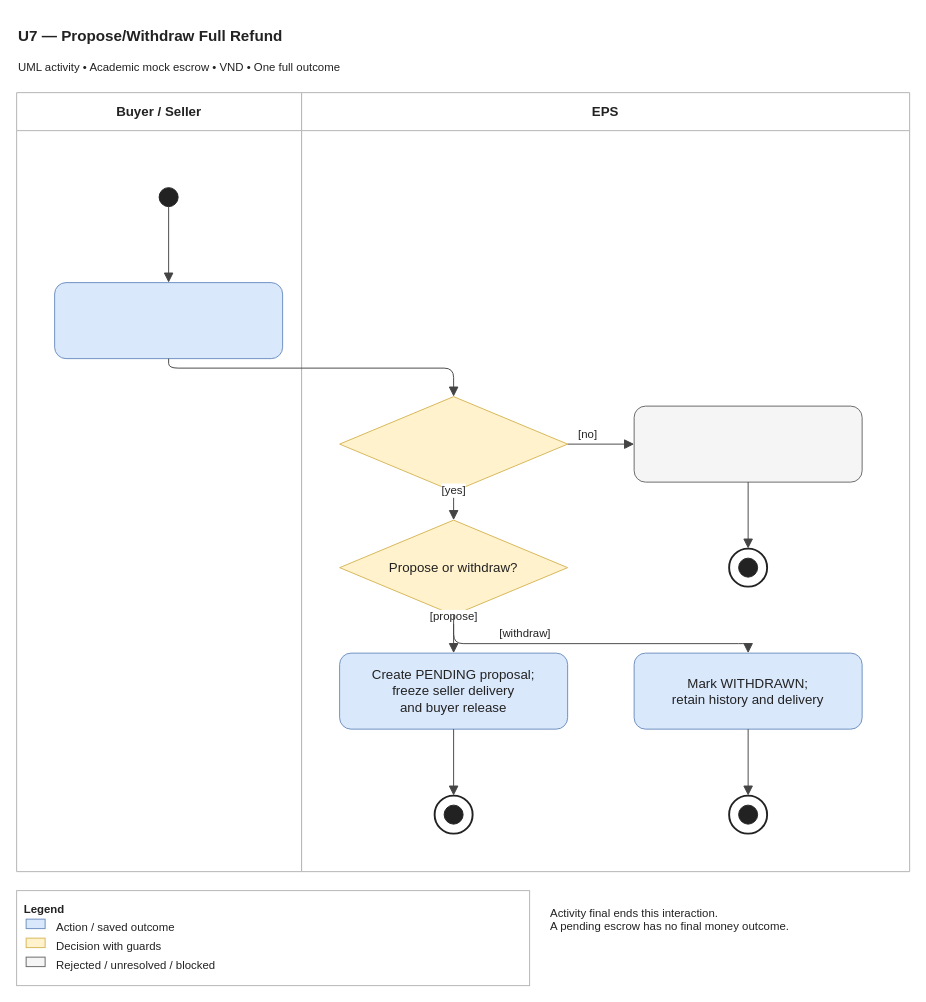
The diagram is 926 pixels wide and 1002 high, and some of its shapes have lost their labels. Here are the shapes that lost their labels. From the top down, the box of each, then its label:
(54, 282, 283, 359): Propose full refund or withdraw own proposal
(339, 396, 568, 492): Refund action eligible?
(633, 405, 862, 482): Reject invalid / stale action; no duplicate proposal
